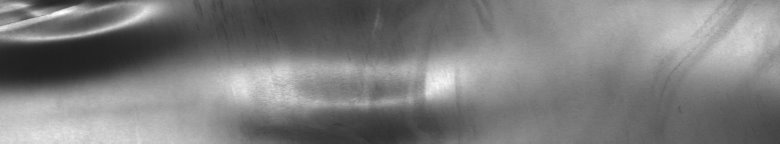ke: (4, 4, 160, 81)
